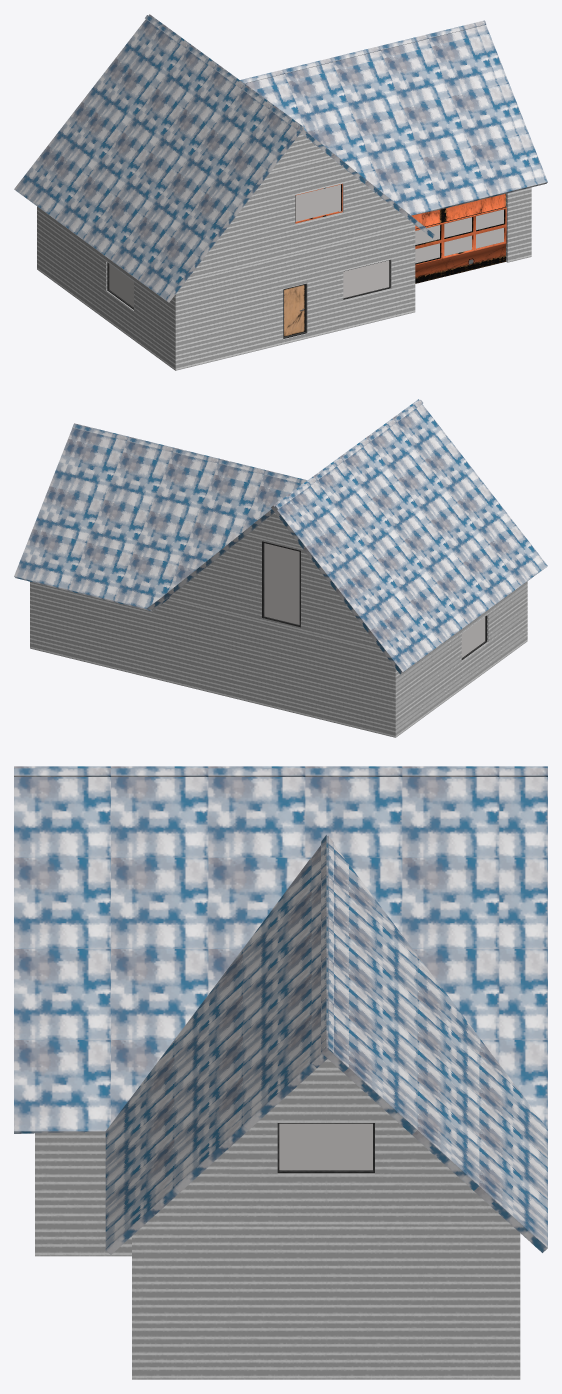
Rendered from House6.fbx.
3 views of the same model, one above another, from view 1: azimuth 30°, elevation 25°; view 2: azimuth 150°, elevation 25°; view 3: azimuth 270°, elevation 25° (orthographic). The views are drawn at different scales.
Parts seen in each view (by area): view 1: House6; view 2: House6; view 3: House6.
Part boxes in pixels (x1,y1,x2,y2): House6: (14, 14, 547, 370); House6: (14, 399, 547, 737); House6: (14, 766, 547, 1379).
Bounding box in the file's own units: 17 × 8.77 × 11.
